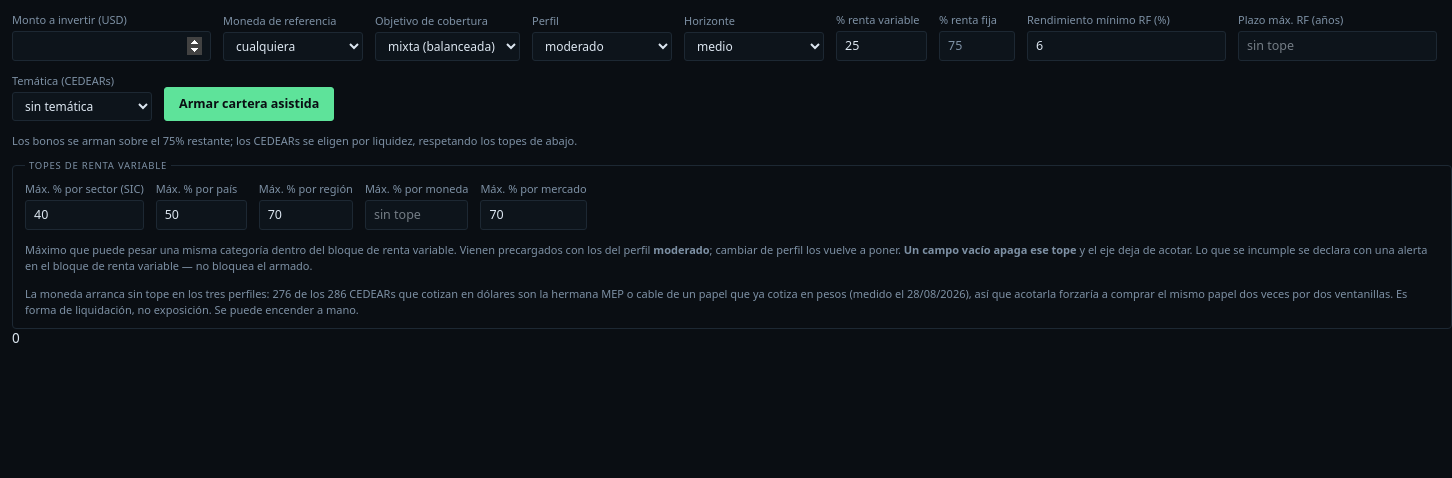
PanelArmadoAsistido › no avisa nada cuando lo pedido y lo aplicado coinciden
In the number field labelled "Monto a invertir (USD)": (112, 46) top-left (12, 31), bottom-right (211, 61), type "100000"
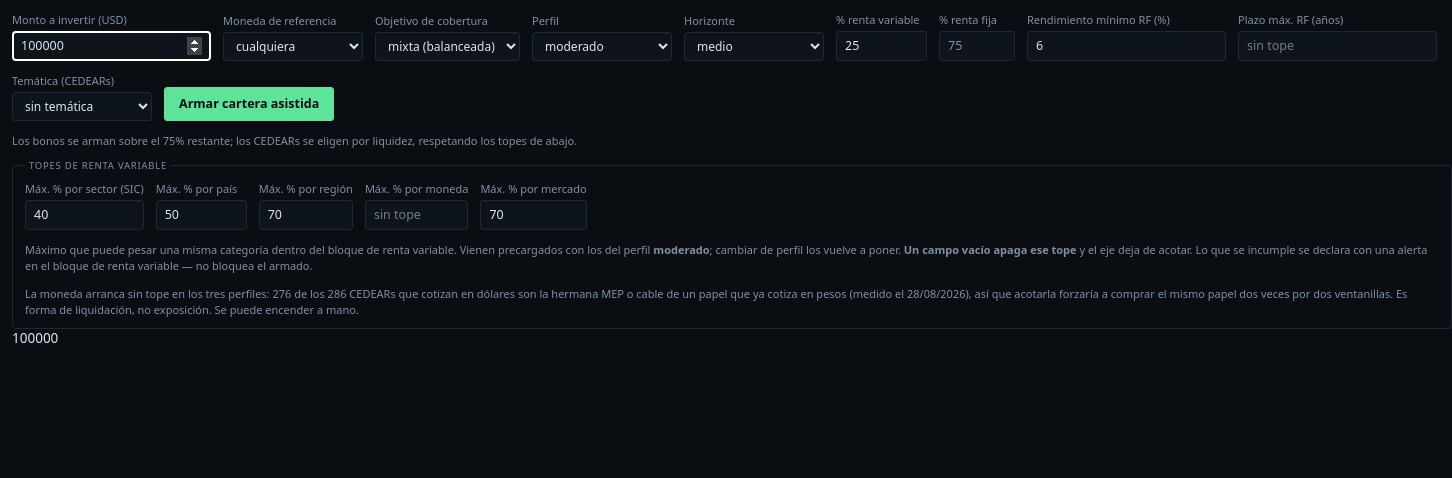
Click the button "Armar cartera asistida": (249, 104) top-left (164, 87), bottom-right (334, 121)
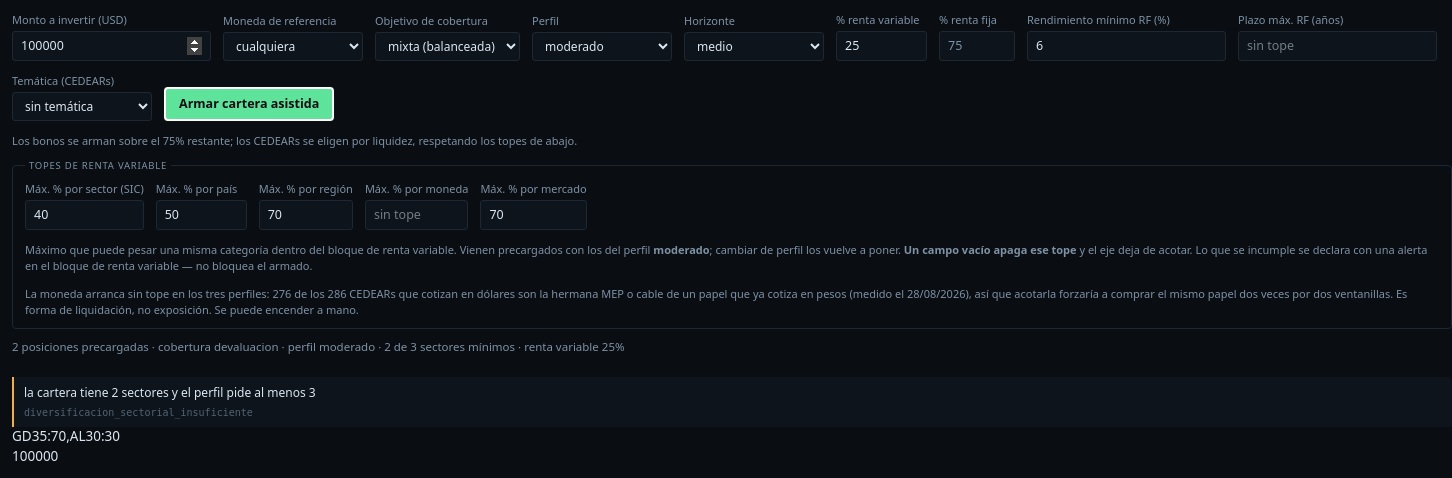
expect the text with test id "cartera" shows "GD35": met, box top-left (12, 427), bottom-right (120, 445)
